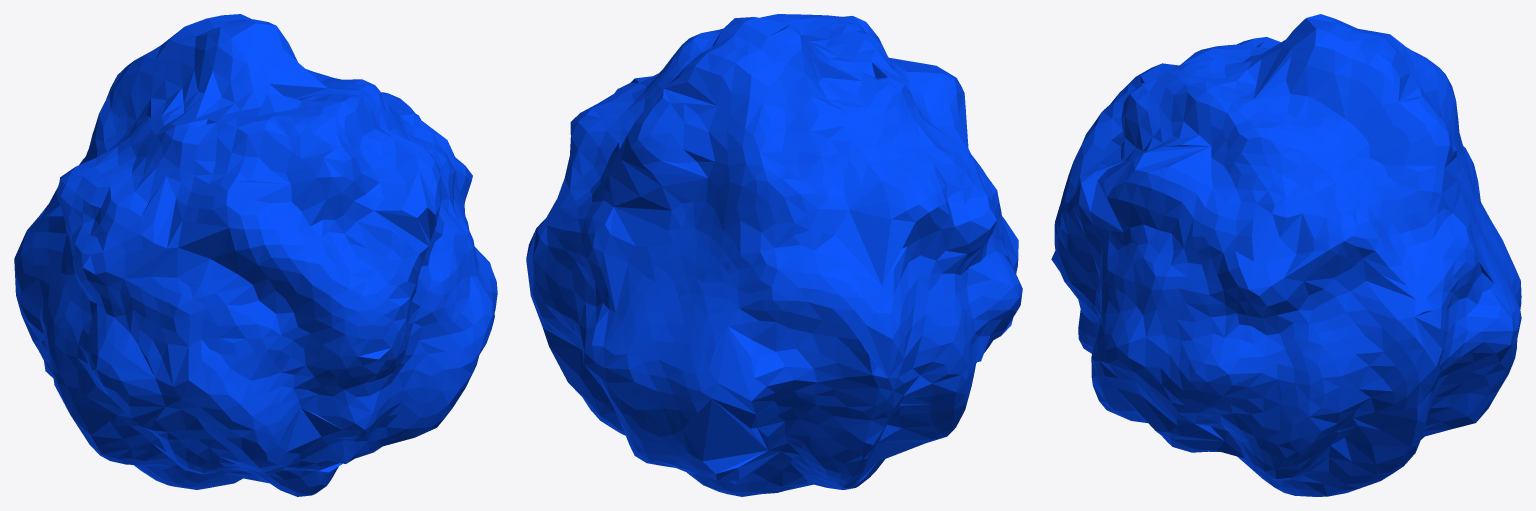
Rendered from cyanStone.glb.
3 views of the same model, side by side, from view 1: azimuth 30°, elevation 25°; view 2: azimuth 150°, elevation 25°; view 3: azimuth 270°, elevation 25° (orthographic). The views are drawn at different scales.
Parts seen in each view (by area): view 1: PierreSkin2; view 2: PierreSkin2; view 3: PierreSkin2.
Part boxes in pixels (<box>): PierreSkin2: <box>14,14,497,496</box>; PierreSkin2: <box>526,14,1022,496</box>; PierreSkin2: <box>1051,14,1521,496</box>.
Bounding box in the file's own units: 5.81 × 6.17 × 5.99.
